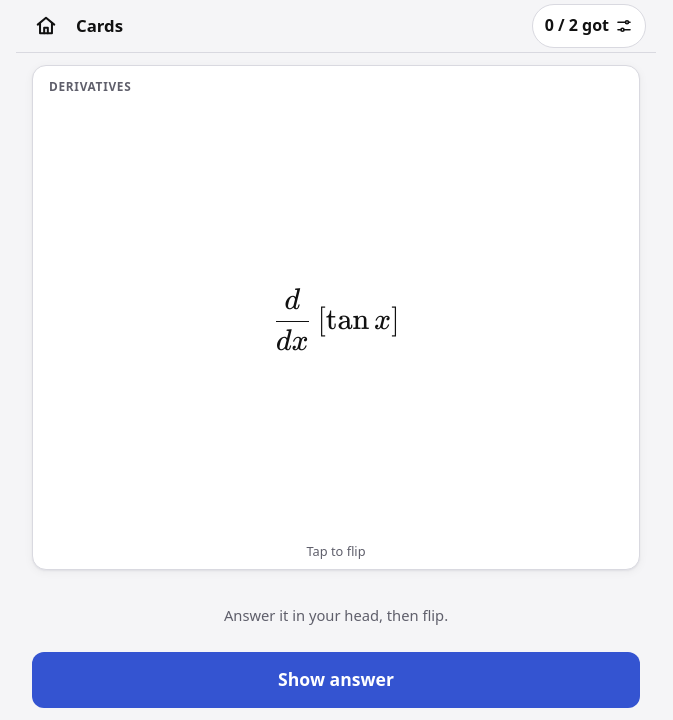
Test: study session › summary shows got / missed; "Study missed only" replays just the missed cards
Earlier steps of the test are not shown.
Later steps or results of the test are not shown.
Click the element with class "flashcard". click: (336, 540)
box: x1=32 y1=65 x2=640 y2=570
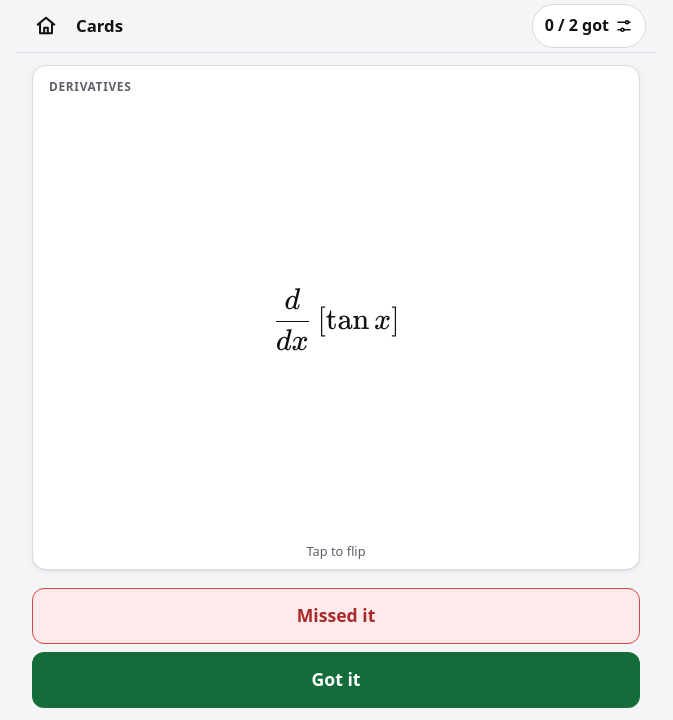
Click the button "Got it". click: (336, 680)
box: x1=32 y1=652 x2=640 y2=708
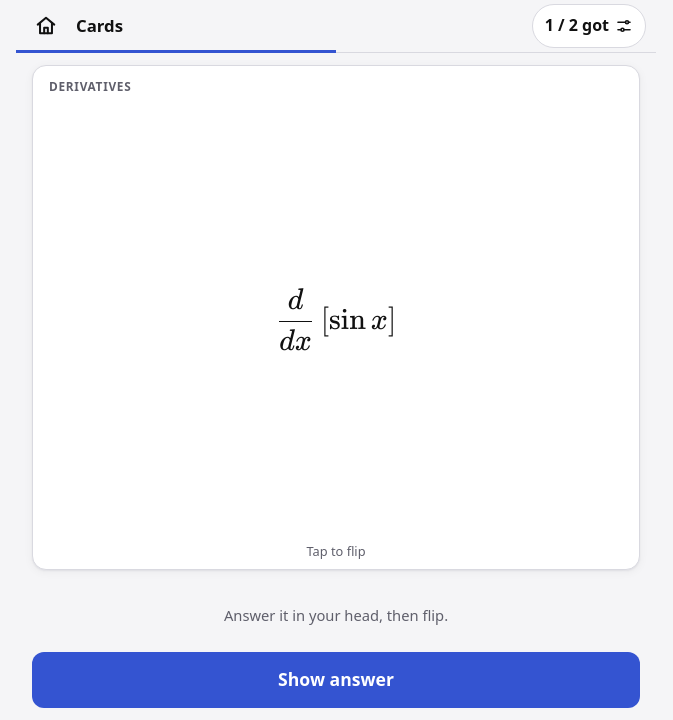
Click the element with class "flashcard". click: (336, 540)
box: x1=32 y1=65 x2=640 y2=570
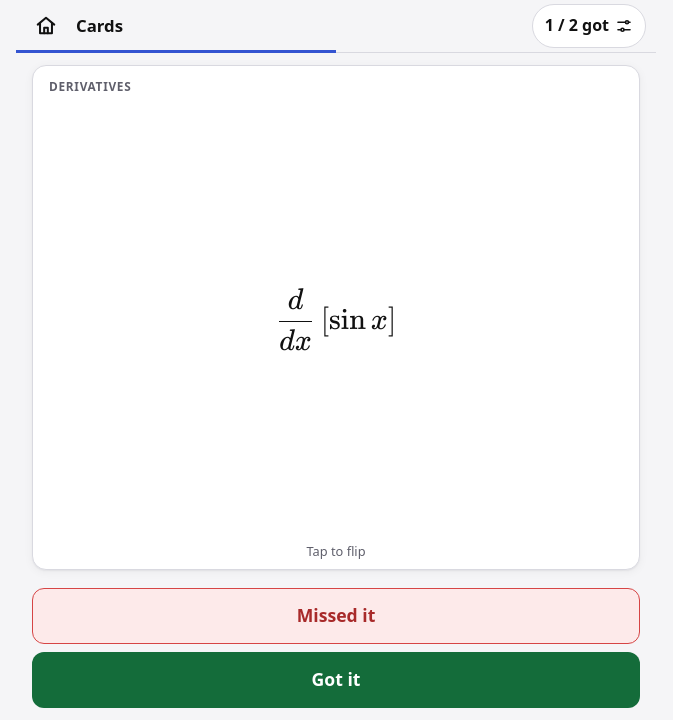
Click the button "Missed it". click: (336, 616)
box: x1=32 y1=588 x2=640 y2=644
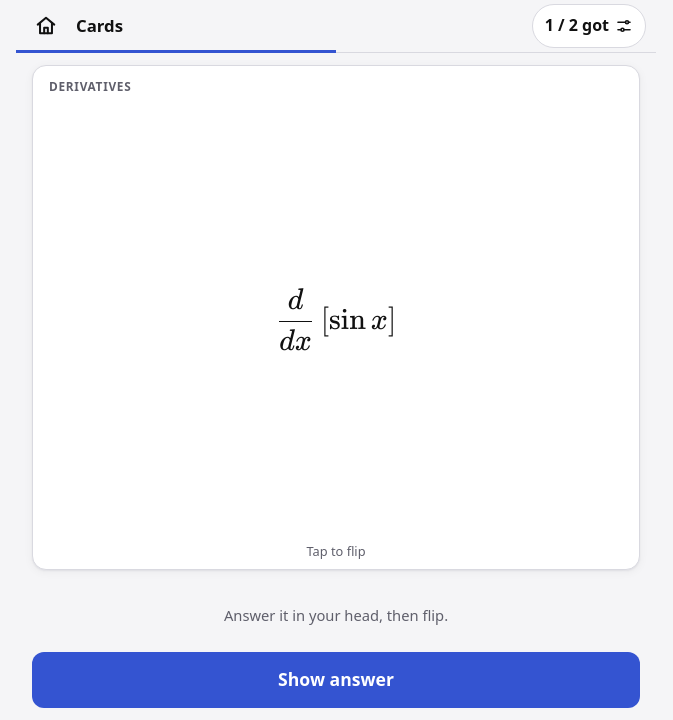
Click the element with class "flashcard". click: (336, 540)
box: x1=32 y1=65 x2=640 y2=570
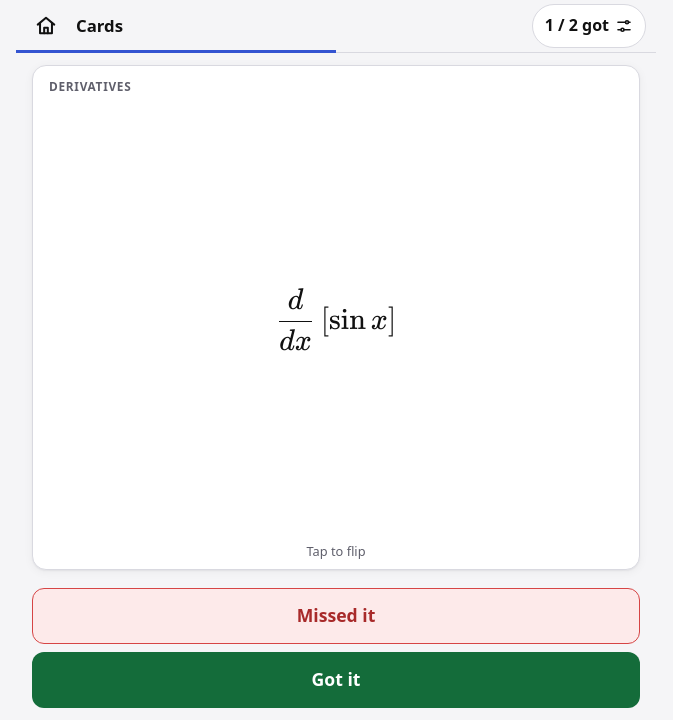
Click the button "Got it". click: (336, 680)
box: x1=32 y1=652 x2=640 y2=708
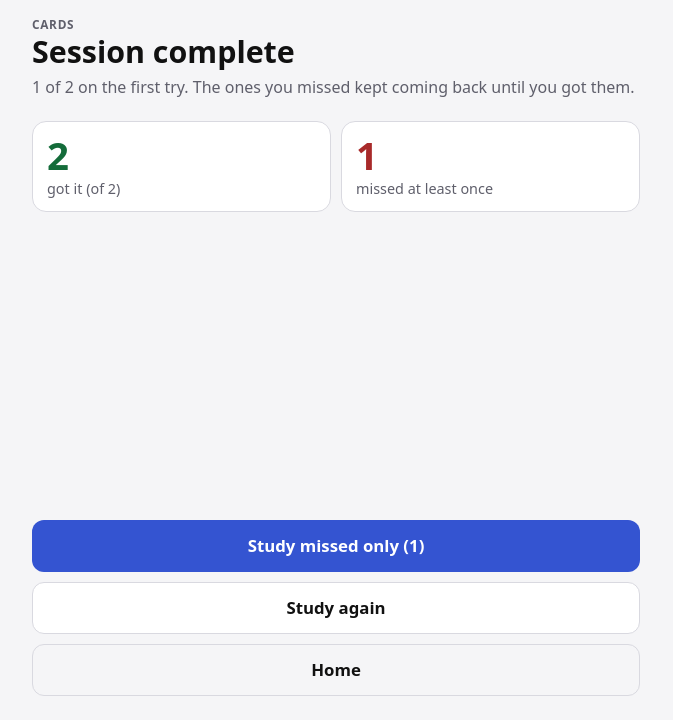
Now the heading "Session complete" is shown, box x1=32 y1=31 x2=295 y2=72
Now the text with class "card-stat-num" reads "2", box x1=47 y1=129 x2=69 y2=181
Now the text with class "card-stat-num" reads "1", box x1=356 y1=129 x2=378 y2=181
